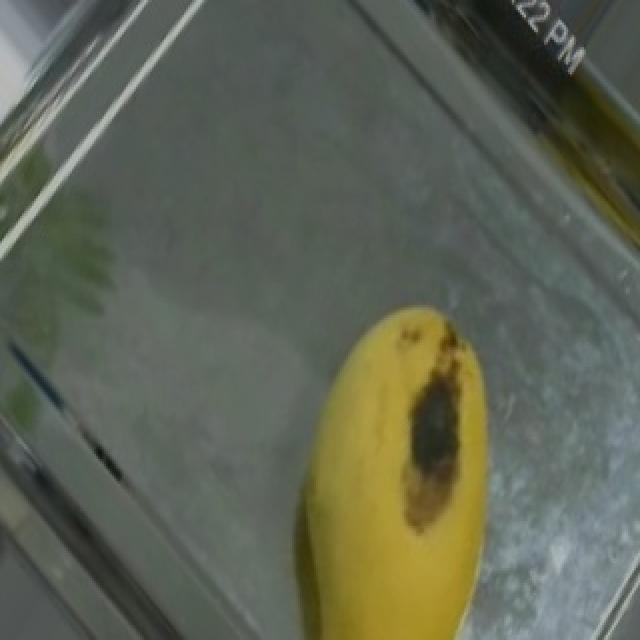fruit: (250, 268, 572, 640)
